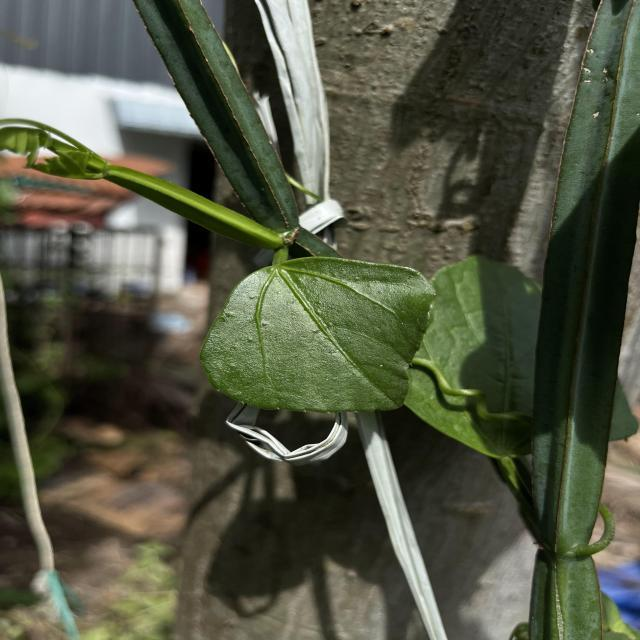Cissus quadrangularis: (196, 252, 441, 420)
